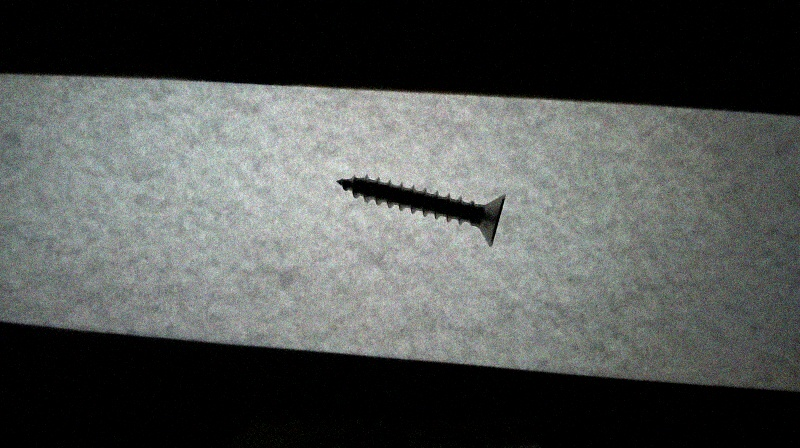S001: (333, 171, 509, 246)
